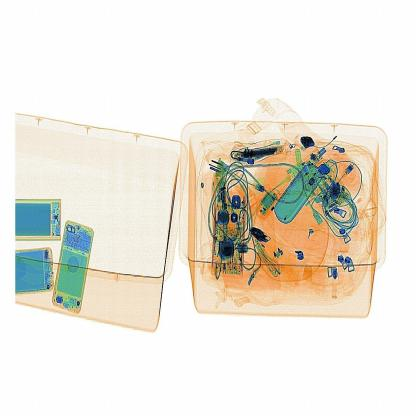scissors: (244, 224, 276, 248)
